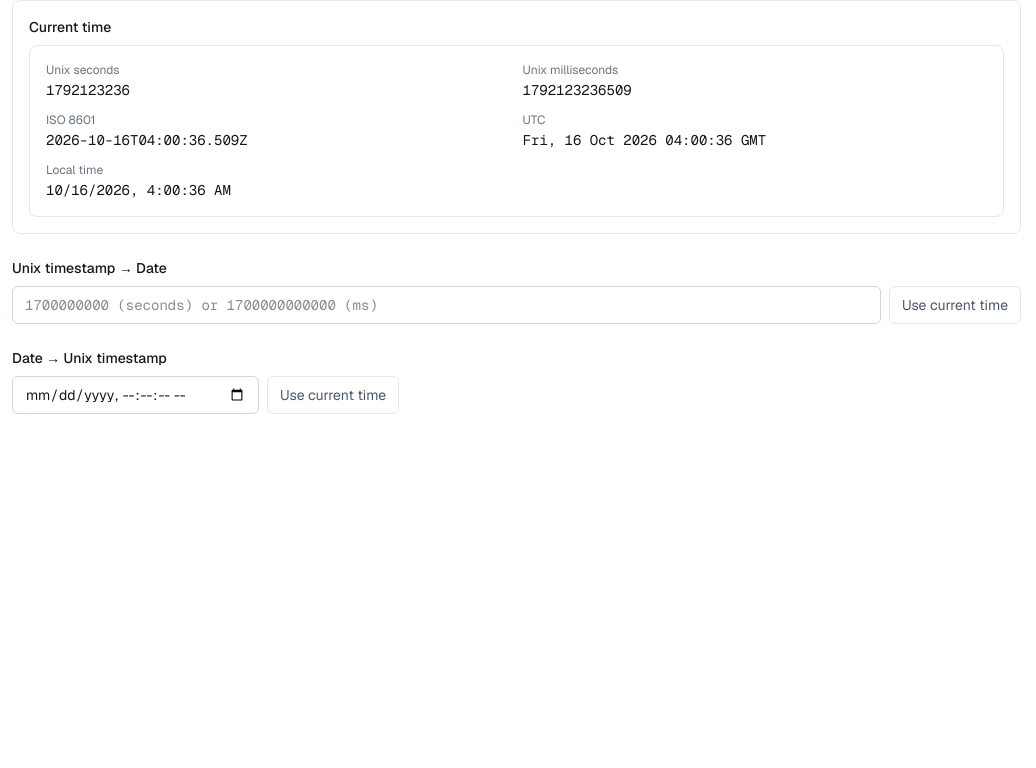
TimestampConverterTool › converts a unix timestamp (seconds) to a date
Type "1700000000" into the field labelled "Unix timestamp → Date".
click(446, 305); type("1700000000")  # box [12,286,881,324]
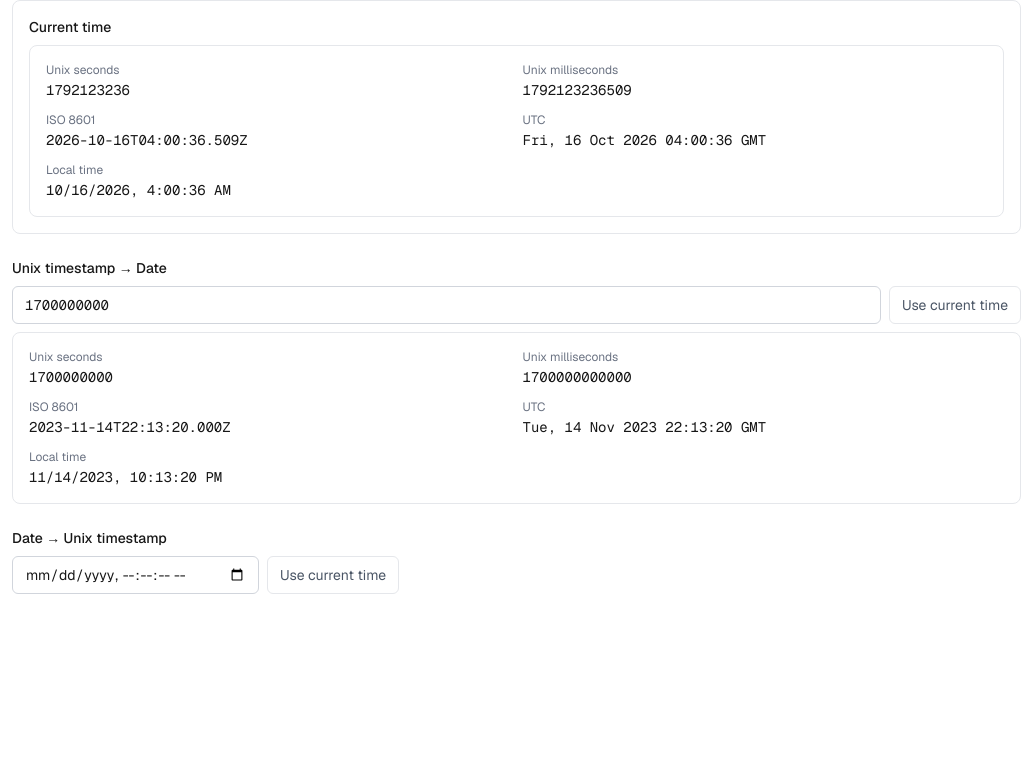
Result: the text "2023-11-14T22:13:20.000Z" is shown at [29,418,231,436]
